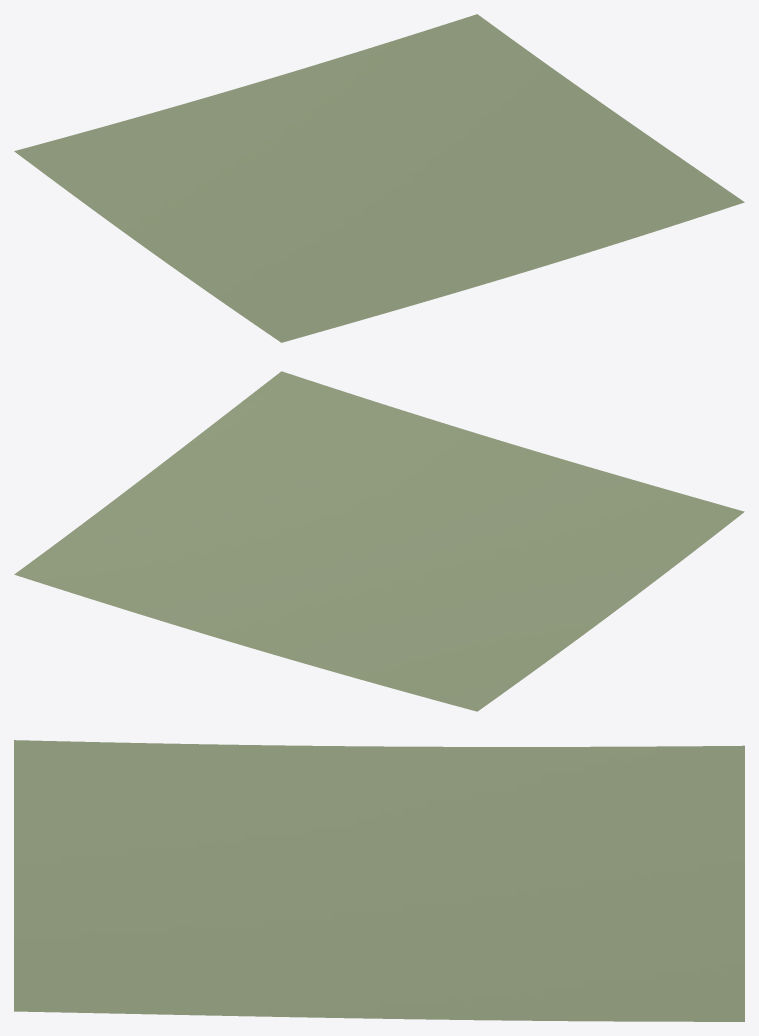
Rendered from expanse-9-6.glb.
The picture shows the model from 3 angles, top to bottom: view 1: azimuth 30°, elevation 25°; view 2: azimuth 150°, elevation 25°; view 3: azimuth 270°, elevation 25°; orthographic projection. The views are drawn at different scales.
Visible parts, largest first — view 1: expanse-9-6; view 2: expanse-9-6; view 3: expanse-9-6.
Part boxes in pixels (x1,y1,x2,y2): expanse-9-6: [14, 14, 744, 342]; expanse-9-6: [14, 371, 744, 711]; expanse-9-6: [14, 740, 744, 1021].
Bounding box in the file's own units: 256 × 17.14 × 256.
